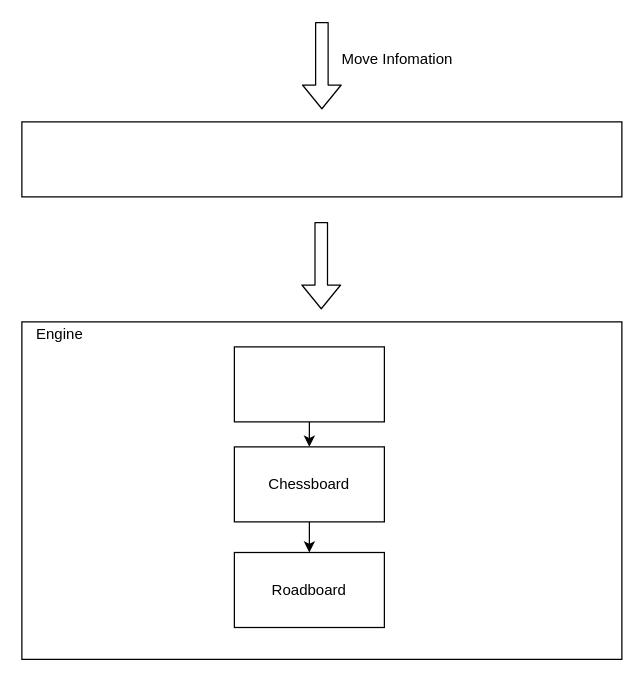
This 644x681 diagram has some shape labels left out. Here are the shapes that lost their labels. From the top down, the box of each, then its label:
(21, 121, 622, 197): NetWork Handler
(233, 346, 384, 422): SearchEngine
